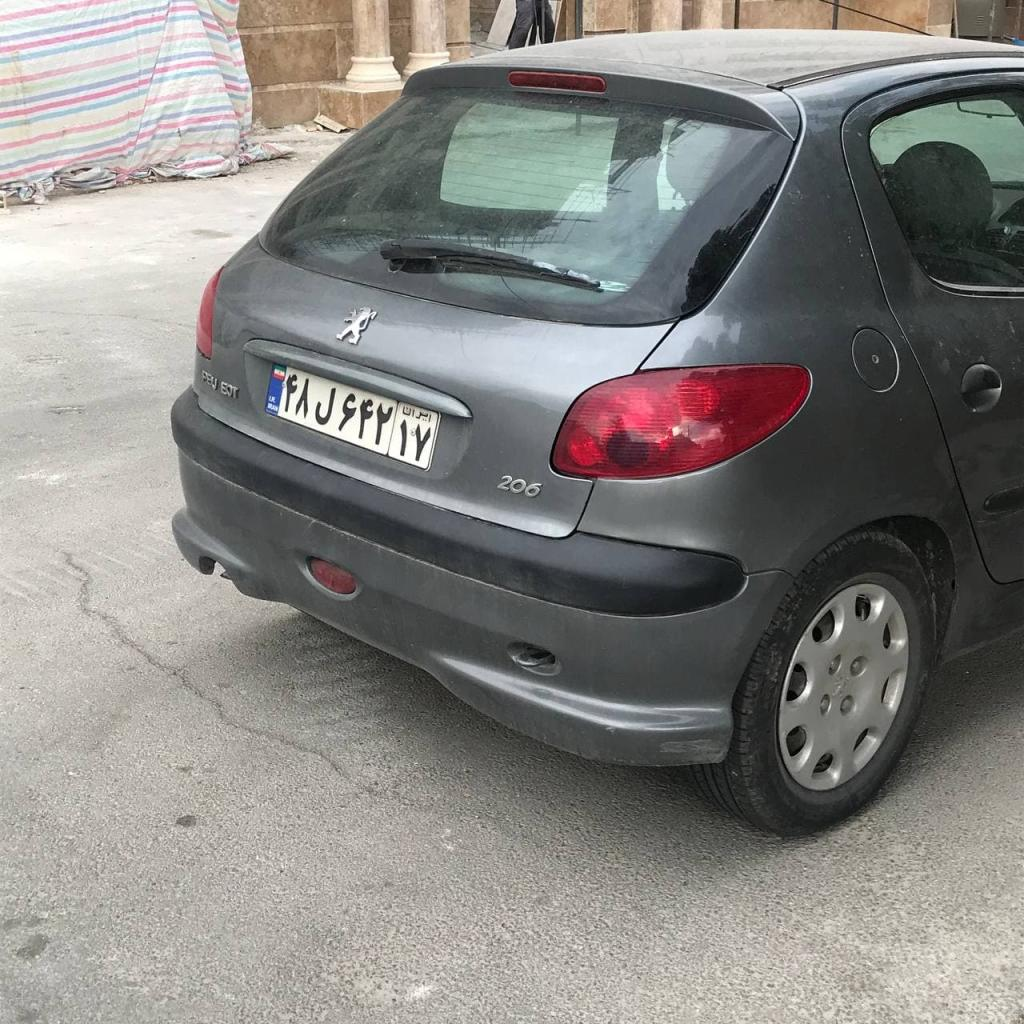Plates: (264, 364, 439, 470)
